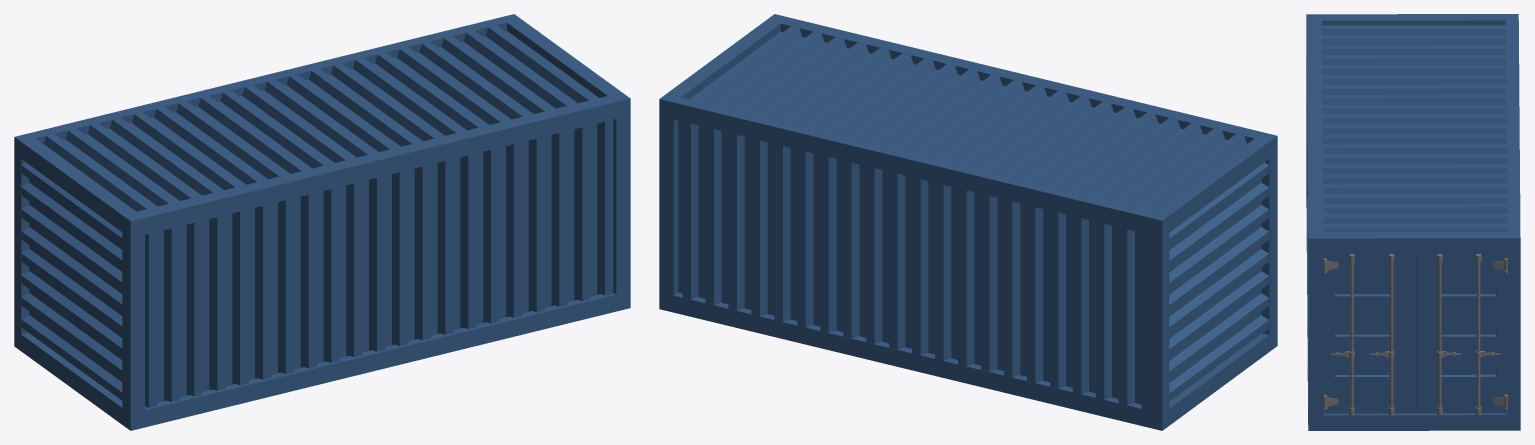
File: Container_BLUESON.fbx
3 views of the same model, side by side, from view 1: azimuth 30°, elevation 25°; view 2: azimuth 150°, elevation 25°; view 3: azimuth 270°, elevation 25° (orthographic). The views are drawn at different scales.
Visible parts, largest first — view 1: Cube.050, Cube.048, Cube.049, Cube.052; view 2: Cube.051, Cube.048, Cube.049, Cube.052; view 3: Cube.049, Cube.053, Cube.048, Cylinder.002, Cylinder.003, Cylinder, Cylinder.001.
Part boxes in pixels (box(x1,y1,x2,y2)): Cube.050: box(145, 120, 613, 407); Cube.048: box(14, 14, 630, 430); Cube.049: box(43, 25, 598, 211); Cube.052: box(21, 162, 122, 400); Cube.051: box(678, 120, 1147, 410); Cube.048: box(659, 14, 1277, 430); Cube.049: box(689, 26, 1246, 211); Cube.052: box(1169, 162, 1268, 401); Cube.049: box(1322, 25, 1507, 231); Cube.053: box(1323, 254, 1507, 413); Cube.048: box(1306, 14, 1520, 430); Cylinder.002: box(1369, 254, 1394, 415); Cylinder.003: box(1330, 254, 1354, 415); Cylinder: box(1475, 254, 1500, 415); Cylinder.001: box(1437, 254, 1461, 415).
Size of the model in its own units: 502 by 200 by 202.
